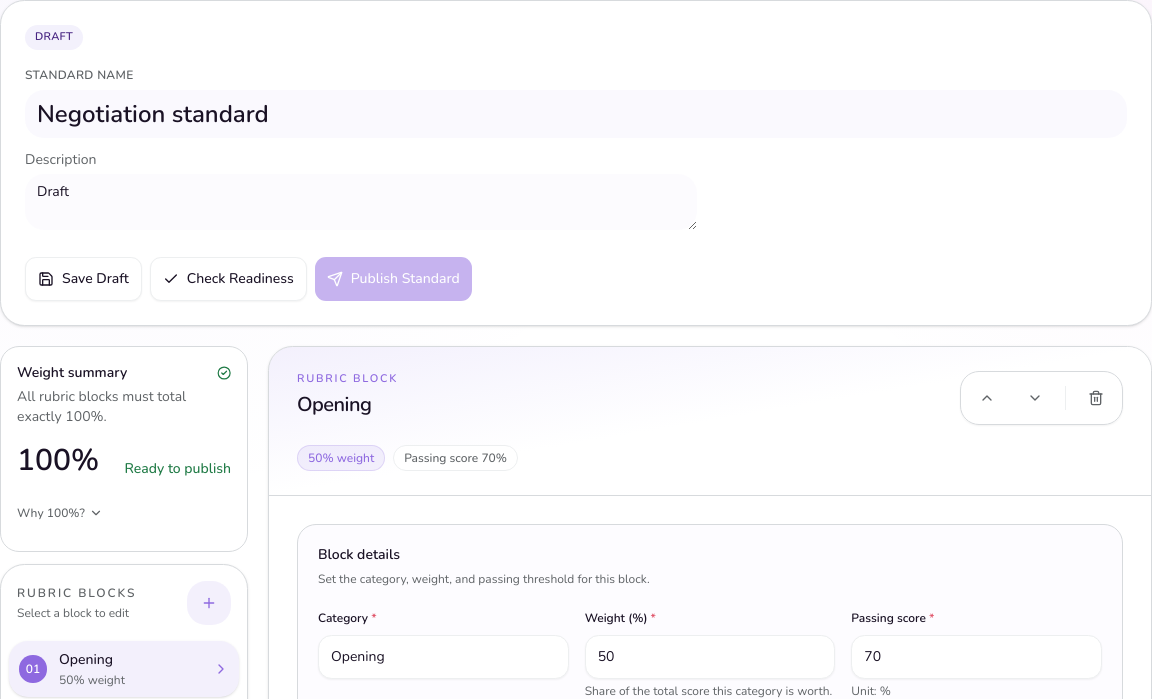
Test case: StandardEditor › focuses the first invalid field after server validation
Click the button "Check Readiness".
click(228, 278)  # box [150,256,307,300]
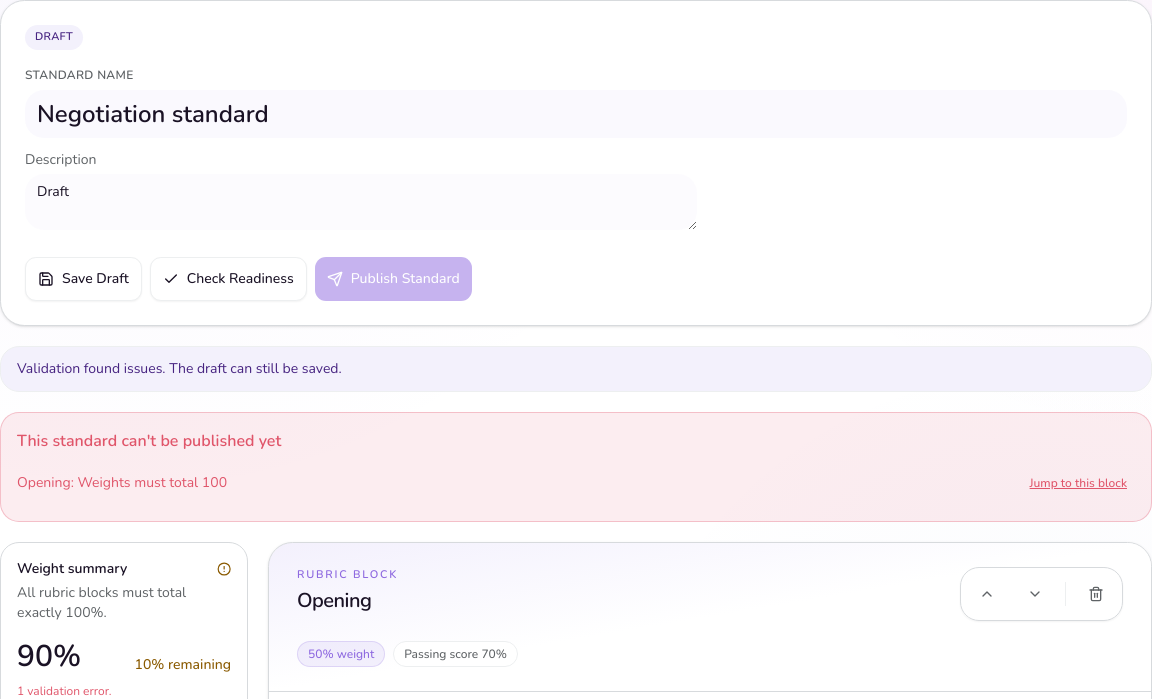
Expected: the button "Publish Standard" is disabled, [315,256,472,300]
Expected: the message that starts with "This standard can't be published yet" is shown, [0,412,1151,522]
